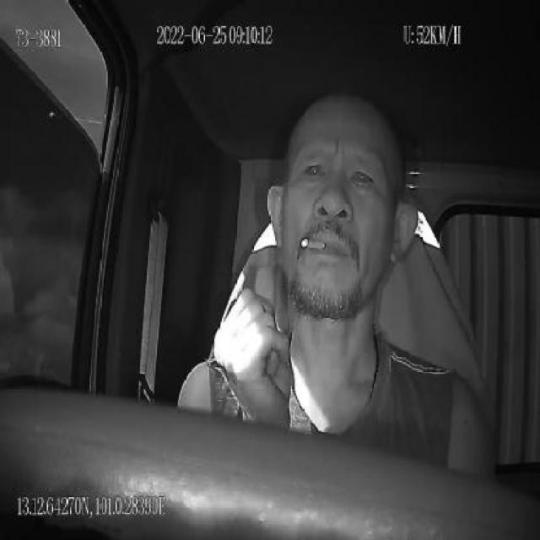smoking: (301, 234, 325, 253)
